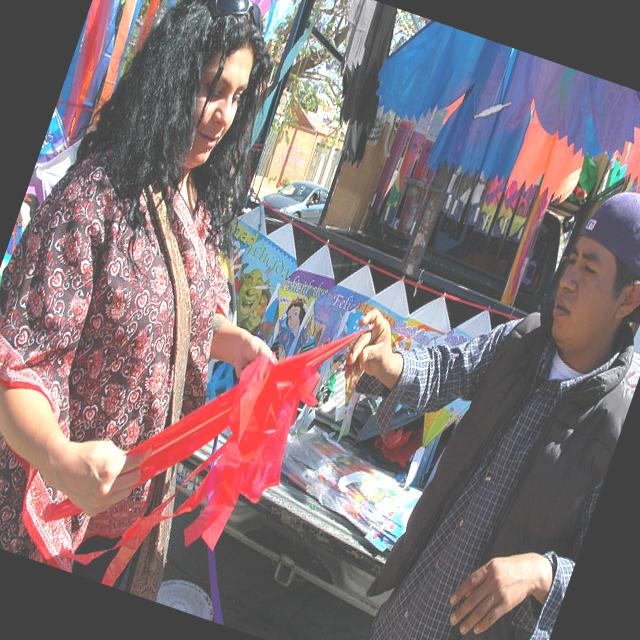Vehicle: (258, 167, 330, 227)
